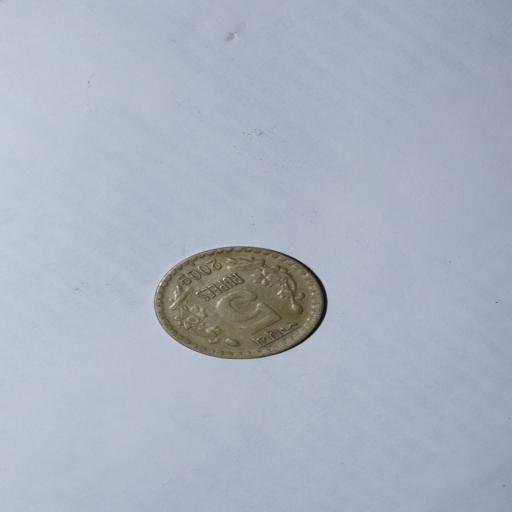rupee5: (150, 243, 331, 359)
